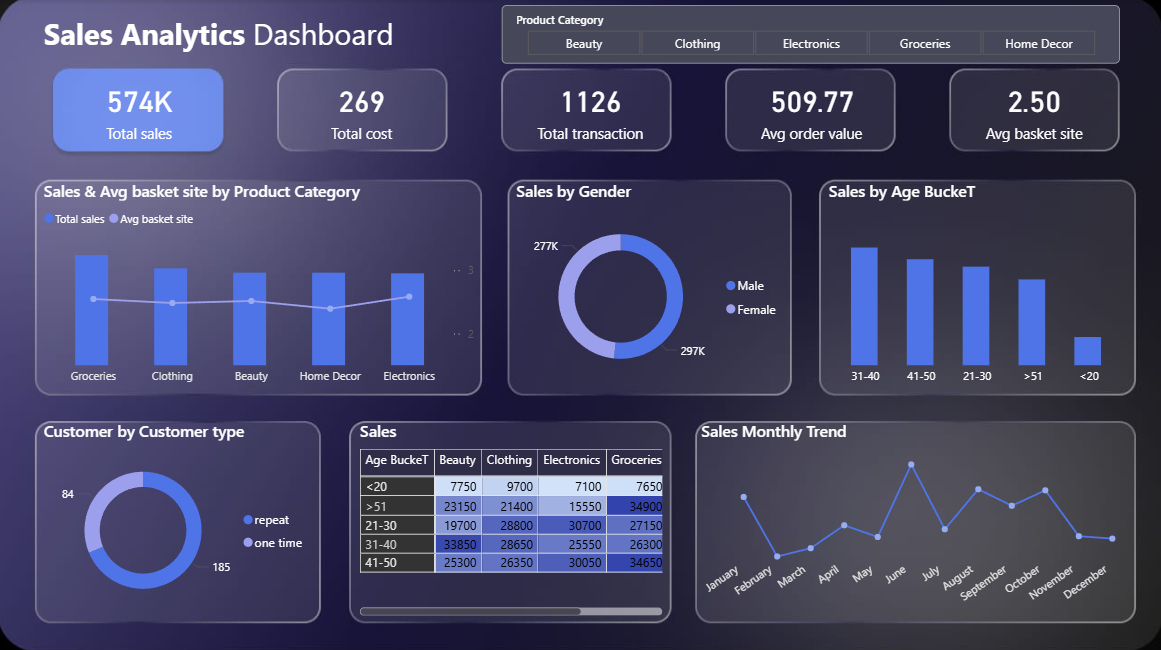

Layout of this report page (visuals, bound fields, positions):
{"tool":"powerbi","page":{"name":"Page 1","canvas":[1280,720],"ordinal":0},"visuals":[{"type":"card","fields":{"Values":["Measure.Total sales"]},"box":[57.6,76.8,194.9,90.6],"z":0},{"type":"card","fields":{"Values":["Measure.Total cost"]},"box":[306,76.8,186.6,90.6],"z":1000},{"type":"card","fields":{"Values":["Measure.Total transaction"]},"box":[553,76.8,194.9,90.6],"z":2000},{"type":"card","fields":{"Values":["Measure.Avg order value"]},"box":[798.6,76.8,189.4,90.6],"z":3000},{"type":"card","fields":{"Values":["Measure.Avg basket site"]},"box":[1045.6,76.8,183.9,90.6],"z":4000},{"type":"donutChart","title":"Sales by Gender","fields":{"Y":["Measure.Total sales"],"Category":["retail_sales.Gender"]},"box":[564,199,304.6,233.3],"z":5000},{"type":"columnChart","title":"Sales by Age BuckeT","fields":{"Category":["retail_sales.Age BuckeT"],"Y":["Measure.Total sales"]},"box":[907,199,336.2,233.3],"z":6000},{"type":"donutChart","title":"Customer by Customer type","fields":{"Category":["Customer type.Cust type"],"Y":["CountNonNull(Customer type.Customer ID)"]},"box":[45.3,462.4,303.3,219.6],"z":7000},{"type":"pivotTable","title":"Sales","fields":{"Rows":["retail_sales.Age BuckeT"],"Columns":["retail_sales.Product Category"],"Values":["Measure.Total sales"]},"box":[392.5,462.4,341.7,219.6],"z":8000},{"type":"lineChart","title":"Sales Monthly Trend","fields":{"Y":["Measure.Total sales"],"Category":["retail_sales.Date.Variation.Date Hierarchy.Month"]},"box":[767.1,462.4,476.2,219.6],"z":9000},{"type":"lineClusteredColumnComboChart","title":" Sales & Avg basket site by Product Category","fields":{"Category":["retail_sales.Product Category"],"Y":["Measure.Total sales"],"Y2":["Measure.Avg basket site"]},"box":[45.3,199,483,233.3],"z":10000},{"type":"textbox","box":[45.3,11,462.4,54.9],"z":11000},{"type":"slicer","fields":{"Values":["retail_sales.Product Category"]},"box":[553,6.9,678,64],"z":12000}]}

Visuals, with their boxes in screenshot pixels (x1, y1, x2, y2), scaled from the page's 1280x720 canvas onto the 1161x650 screenshot:
card - Measure.Total sales: crop(52, 69, 229, 151)
card - Measure.Total cost: crop(278, 69, 447, 151)
card - Measure.Total transaction: crop(502, 69, 678, 151)
card - Measure.Avg order value: crop(724, 69, 896, 151)
card - Measure.Avg basket site: crop(948, 69, 1115, 151)
"Sales by Gender" donutChart: crop(512, 180, 788, 390)
"Sales by Age BuckeT" columnChart: crop(823, 180, 1128, 390)
"Customer by Customer type" donutChart: crop(41, 417, 316, 616)
"Sales" pivotTable: crop(356, 417, 666, 616)
"Sales Monthly Trend" lineChart: crop(696, 417, 1128, 616)
" Sales & Avg basket site by Product Category" lineClusteredColumnComboChart: crop(41, 180, 479, 390)
textbox: crop(41, 10, 460, 59)
slicer - retail_sales.Product Category: crop(502, 6, 1117, 64)
